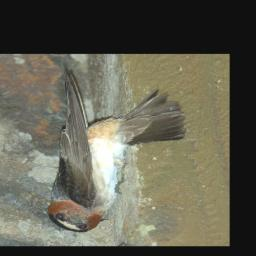Swallow: (46, 65, 187, 233)
